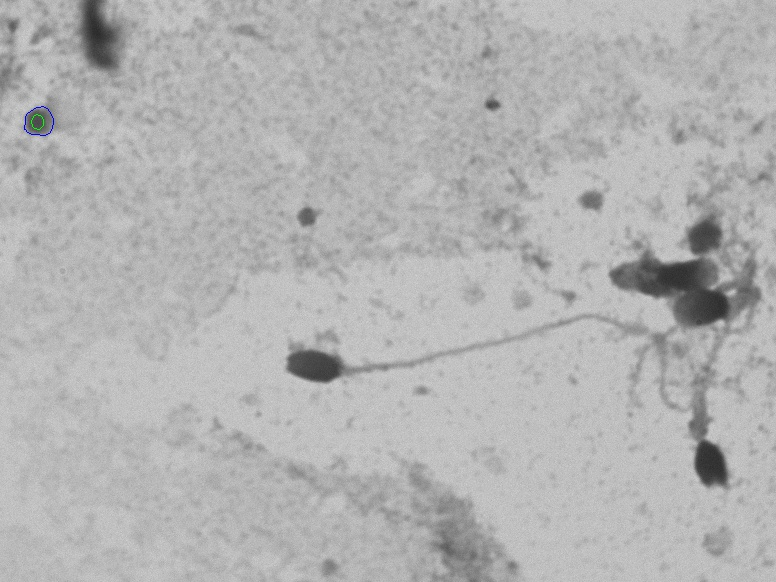Abnormal: (278, 305, 684, 437)
